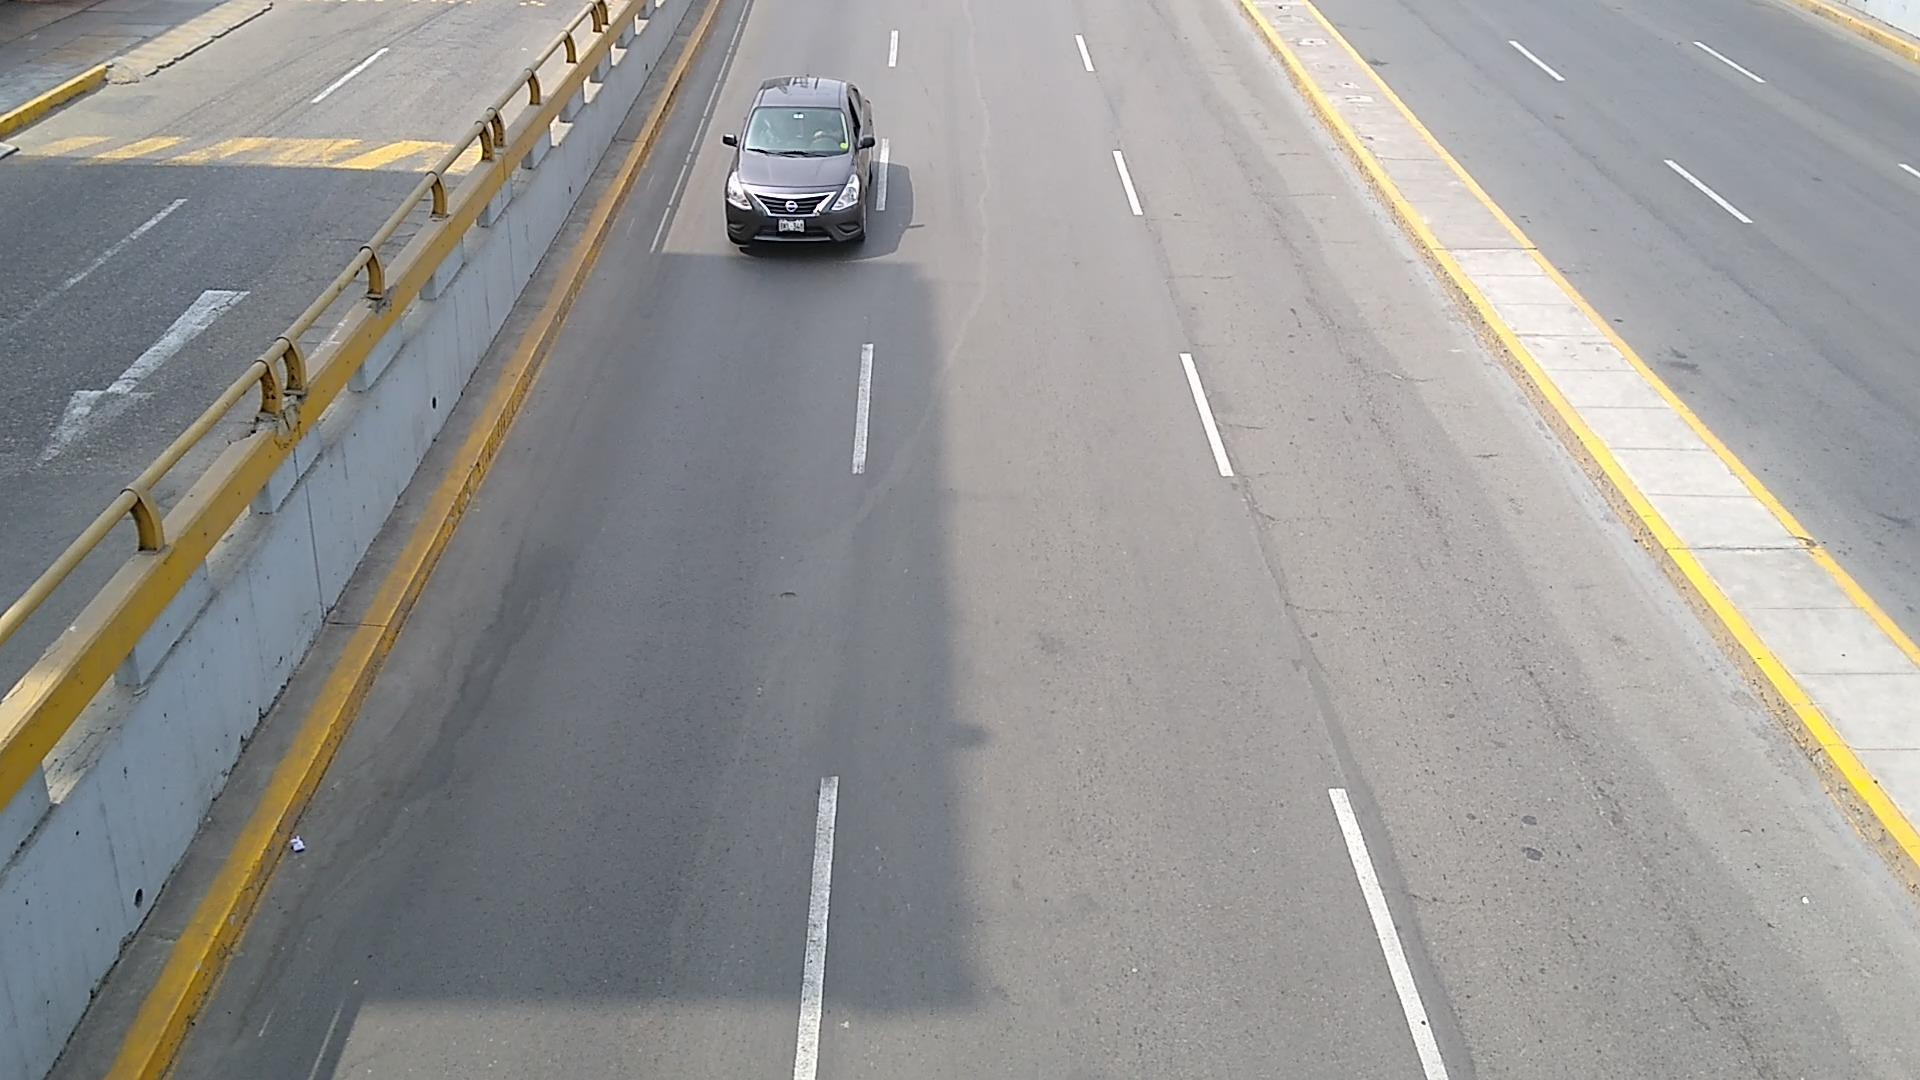car: (724, 75, 874, 252)
